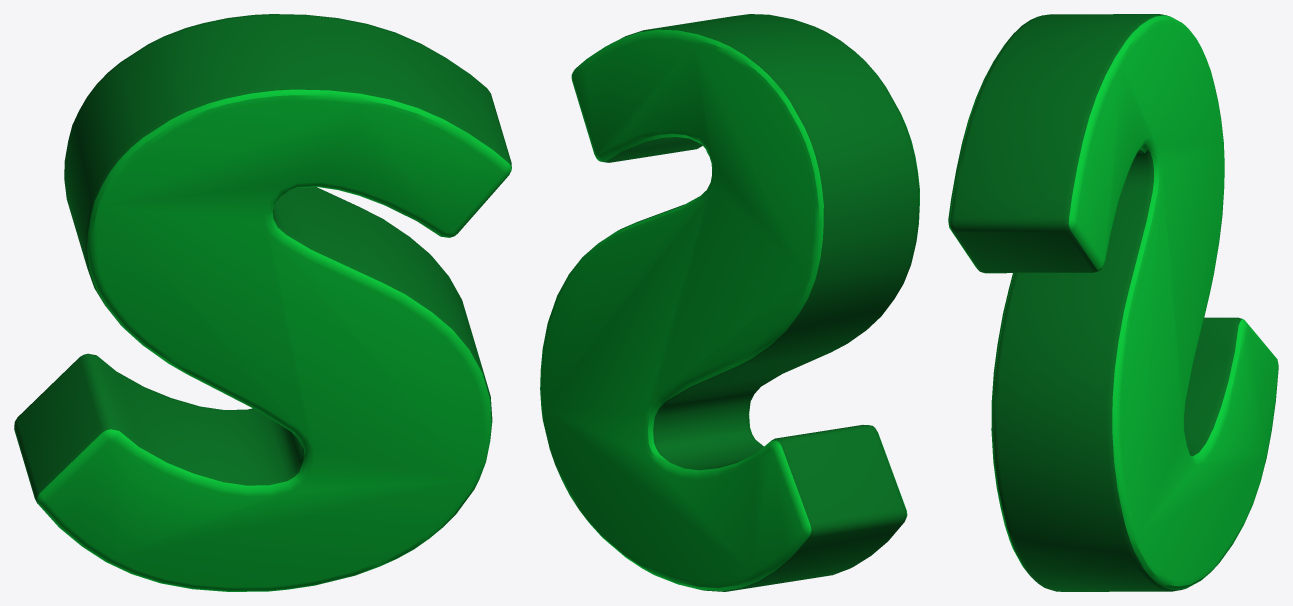
File: scummvm.glb
3 views of the same model, side by side, from view 1: azimuth 30°, elevation 25°; view 2: azimuth 150°, elevation 25°; view 3: azimuth 270°, elevation 25° (orthographic). The views are drawn at different scales.
Parts seen in each view (by area): view 1: scummvm; view 2: scummvm; view 3: scummvm.
Boxes of the visible parts, left/top/right/bottom form: scummvm: left=14, top=14, right=511, bottom=591; scummvm: left=540, top=14, right=919, bottom=591; scummvm: left=948, top=14, right=1278, bottom=591.
Bounding box in the file's own units: 0.7628 × 1 × 0.5602.
